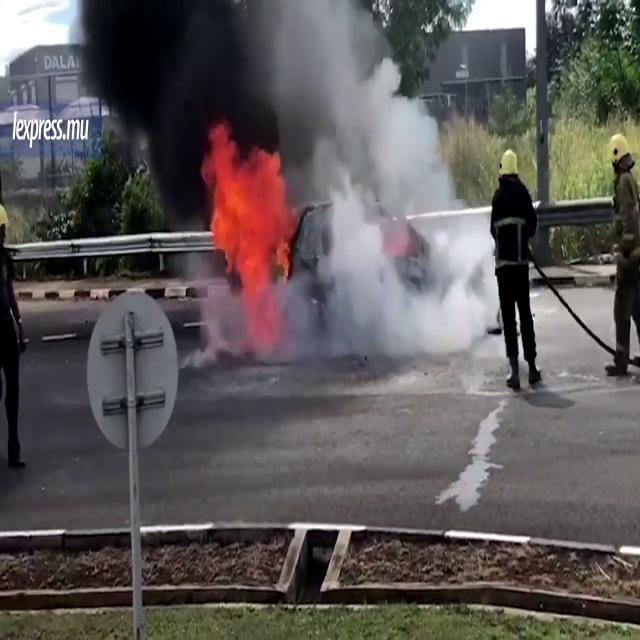Fire: (200, 119, 294, 309)
Smoke: (63, 0, 487, 206), (278, 2, 492, 370)
